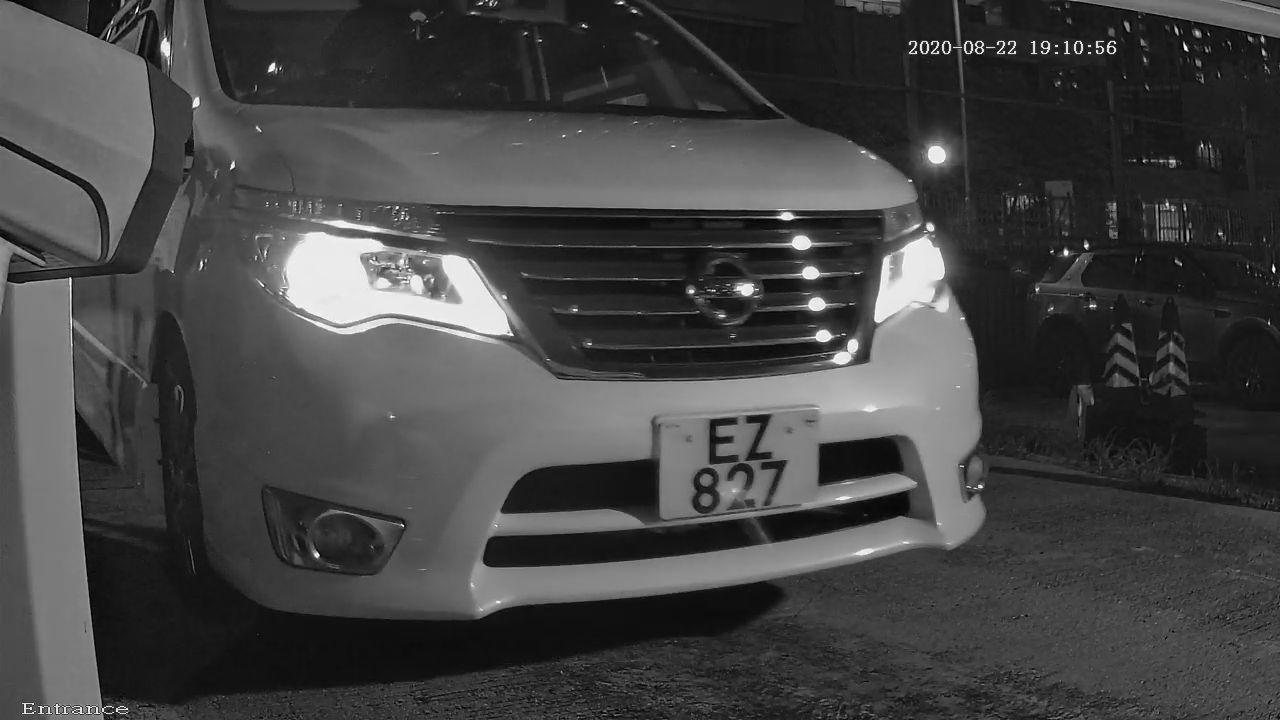License Plate: (635, 389, 846, 541)
